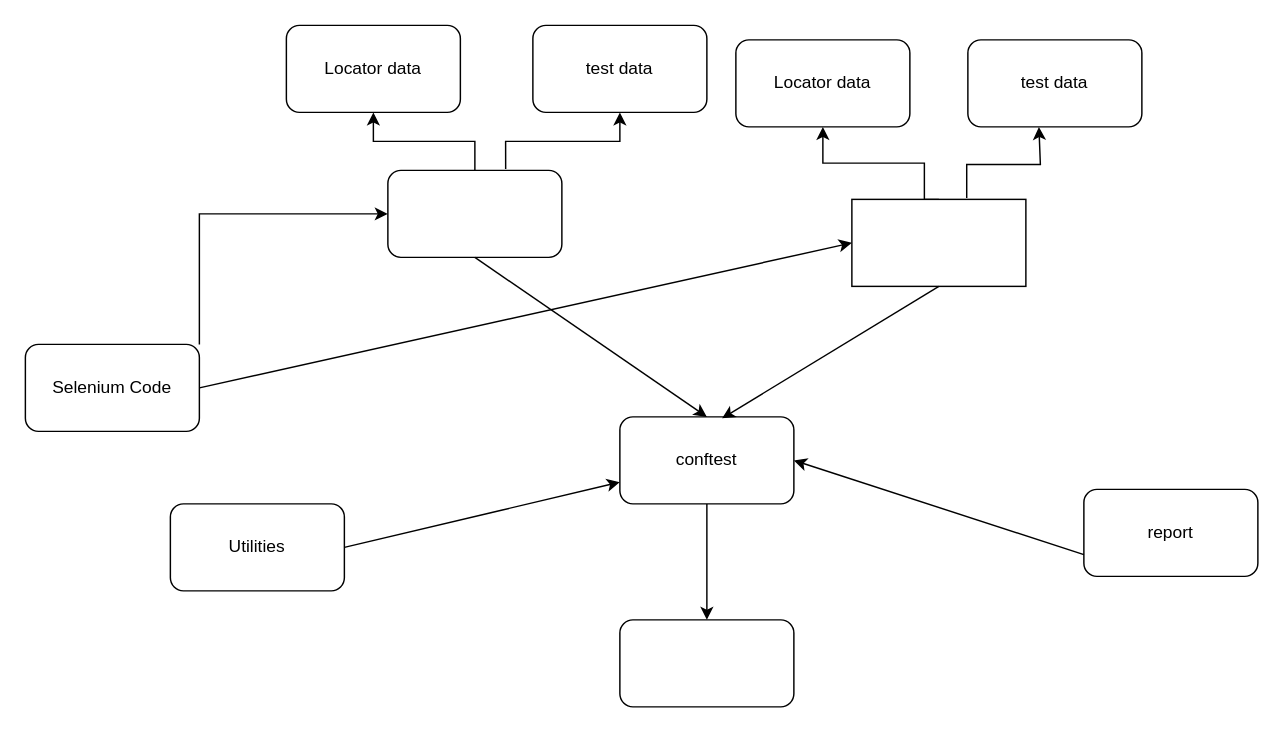
Some shapes in this 1283 by 732 pixel diagram are drawn without their labels. Each missing label, with the centre of its shape:
"Flight Booking" belongs at point (474, 213).
"Hotel Booking" belongs at point (938, 242).
"test cases" belongs at point (706, 662).
